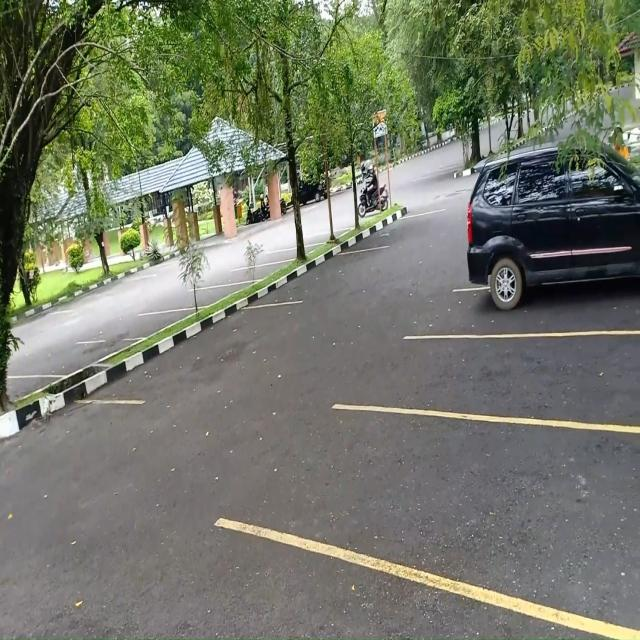empty: (371, 408, 640, 606), (416, 331, 640, 424), (296, 251, 386, 299), (112, 310, 182, 339), (168, 288, 236, 312), (218, 266, 291, 282)
occupied: (452, 196, 640, 336)
